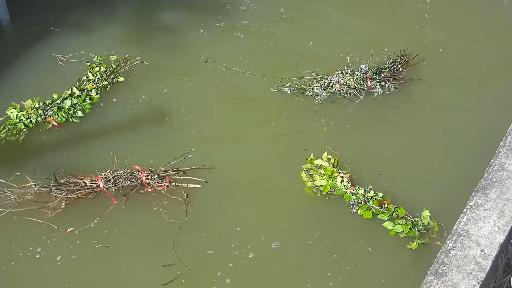twig: (0, 51, 155, 143), (312, 152, 443, 254), (264, 44, 453, 113), (0, 160, 217, 214)
